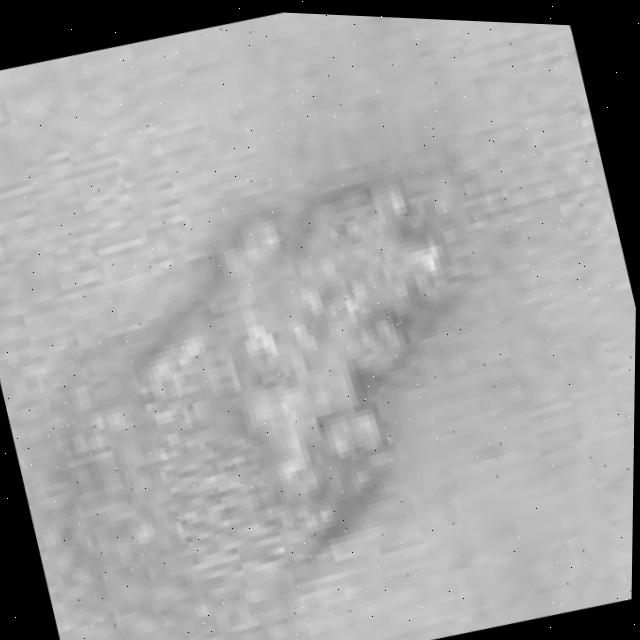Shingles: (120, 171, 492, 578)
